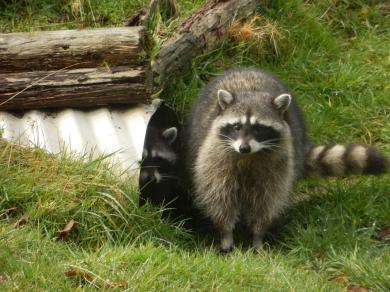raccoon: (182, 67, 390, 255)
